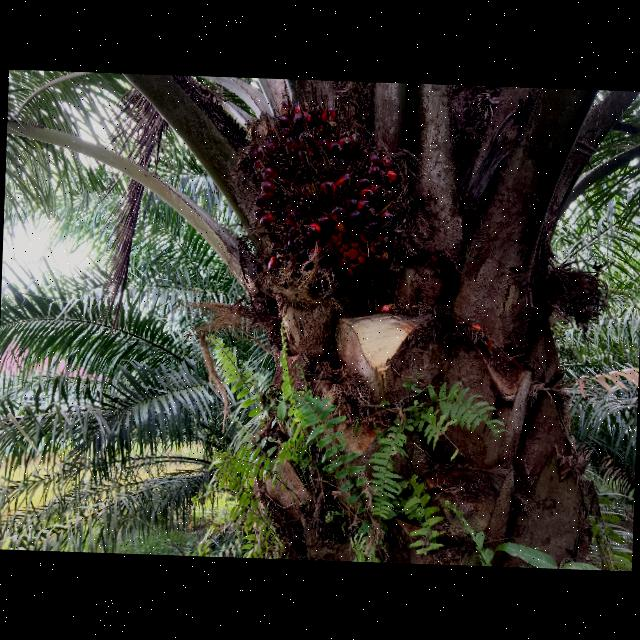Ripe: (253, 107, 403, 283)
